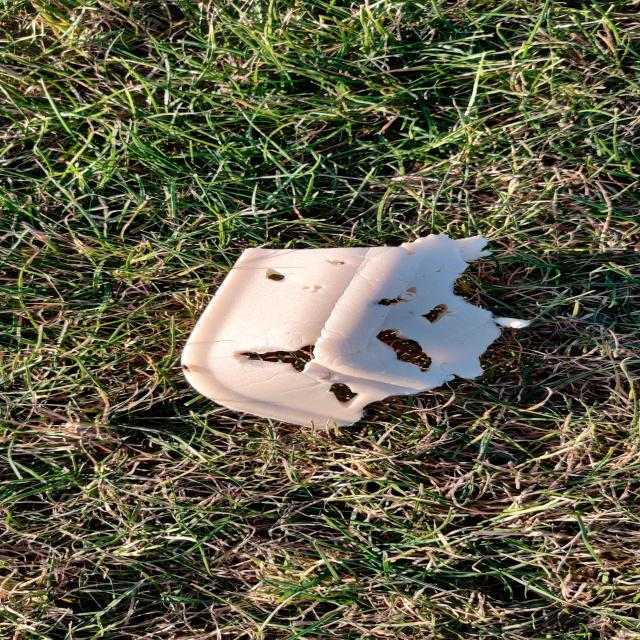litter: (181, 234, 531, 430)
